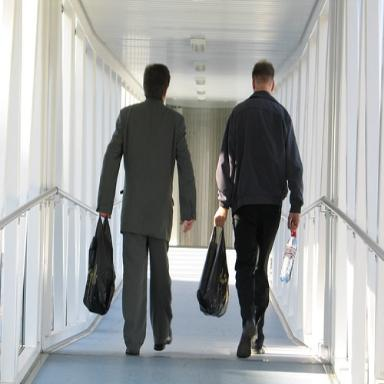plasticbag: (81, 210, 116, 315), (197, 217, 228, 319)
